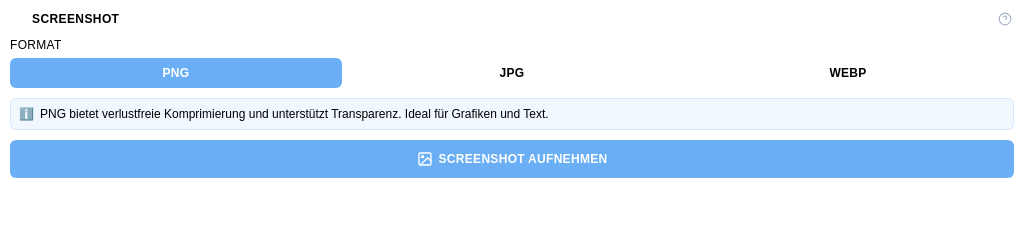
ScreenshotPanel – Format, Vorschau und Vollbild › PNG zeigt den Hinweis statt des Qualitätsreglers, JPG/WebP umgekehrt
Expected: the element with class "info-section" is shown, x1=10 y1=98 x2=1014 y2=130
Click the button with class "format-btn" showing "WebP": (848,73) x1=682 y1=58 x2=1014 y2=88
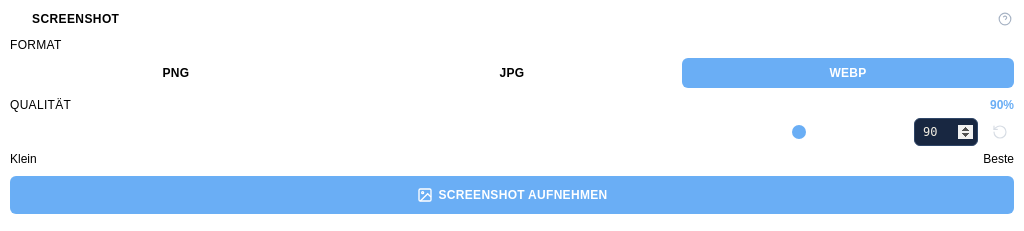
Result: the text "90%" is shown at x1=990 y1=98 x2=1014 y2=112
